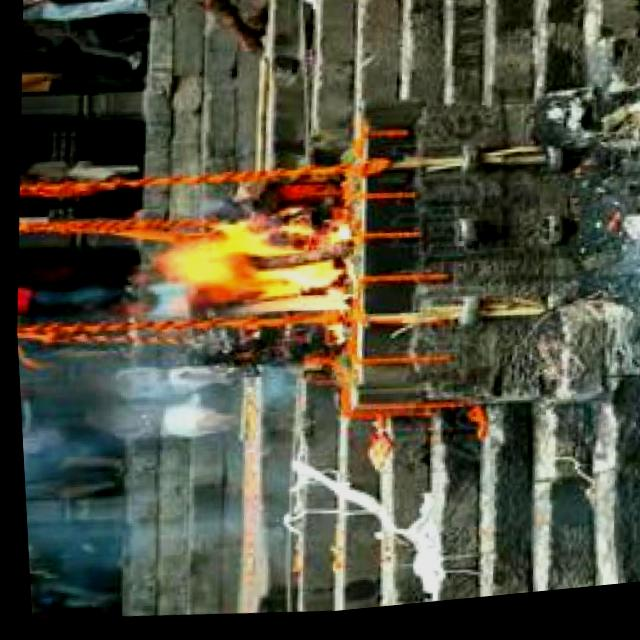Fire: (140, 203, 357, 344)
